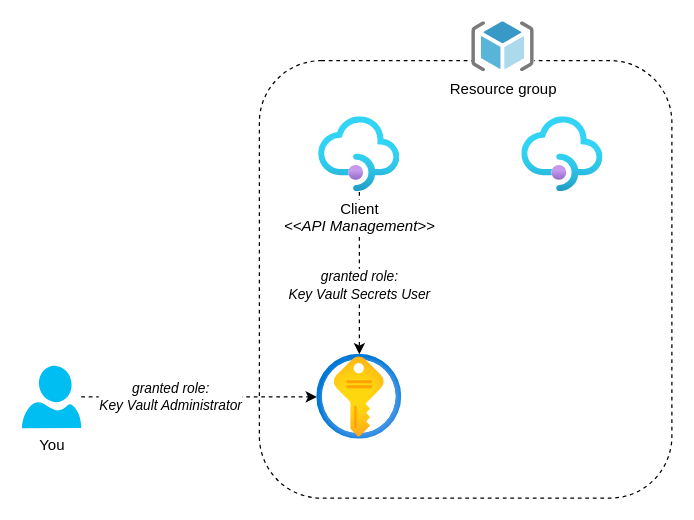
This 694x520 diagram has some shape labels left out. Here are the shapes that lost their labels. From the top down, the centre of each, then its label:
At point (561, 153): "Backend <<API Management>>".
At point (358, 396): "Key Vault".
